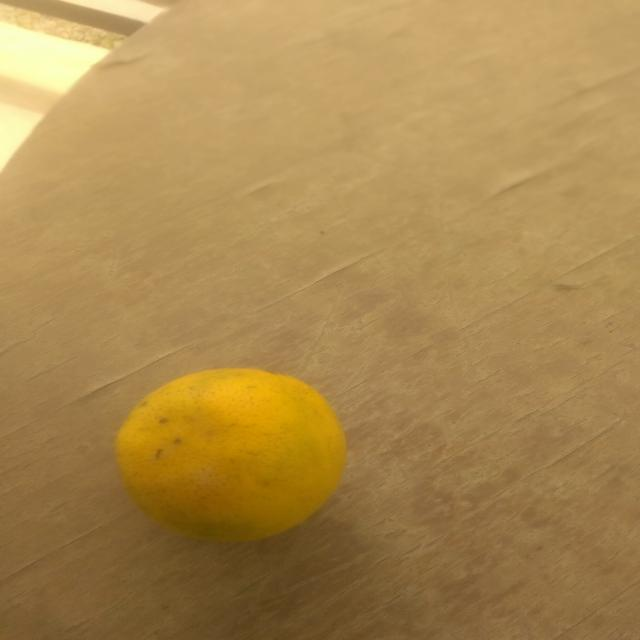Ripe orange: (110, 369, 361, 543)
